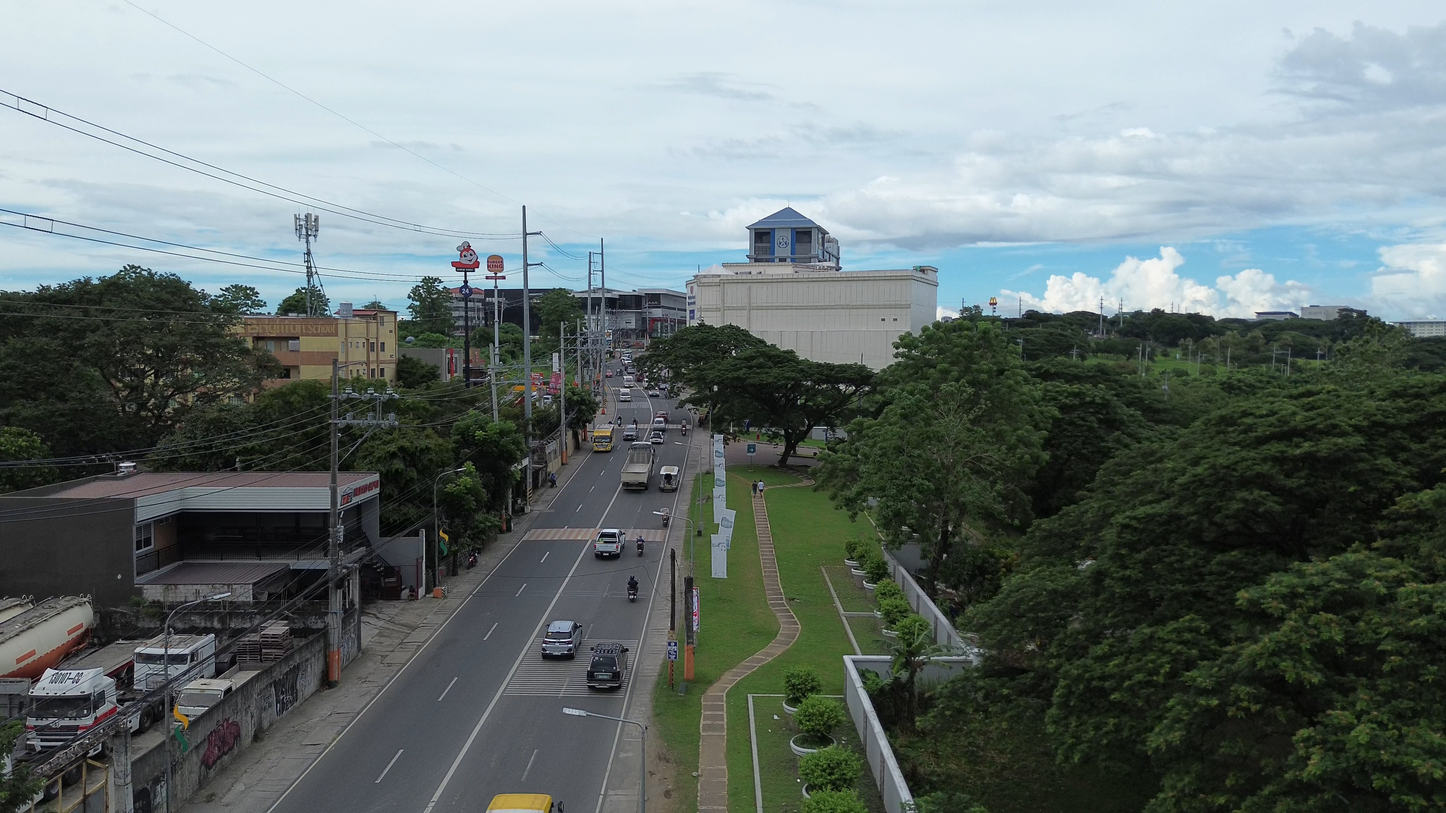car: (652, 417, 667, 432), (647, 388, 662, 397)
motorcycle: (465, 551, 477, 569), (627, 586, 638, 602), (637, 535, 644, 556), (662, 510, 670, 527)
truck: (26, 634, 215, 750)
vehicle: (0, 596, 94, 680), (26, 668, 118, 750), (134, 634, 216, 689), (174, 678, 233, 717), (587, 643, 629, 688), (621, 442, 656, 490), (541, 620, 582, 658), (487, 794, 563, 813), (593, 530, 625, 558), (592, 425, 613, 451), (659, 466, 680, 491), (622, 426, 637, 442), (649, 429, 665, 444), (652, 416, 667, 432), (622, 374, 636, 388), (617, 389, 631, 403), (654, 411, 669, 423), (647, 387, 662, 397), (541, 394, 553, 405), (605, 368, 613, 376)
